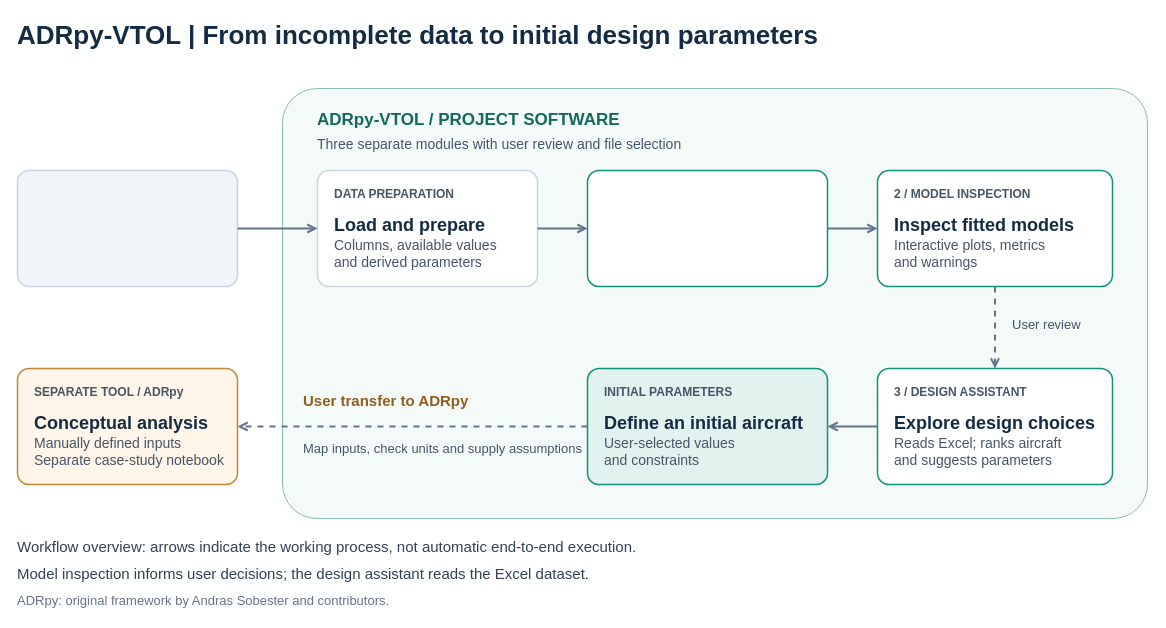
The diagram is 1166 pixels wide and 628 high, and some of its shapes have lost their labels. Each missing label, with the box of its shape:
1 / PREDICTOR Estimate missing values Similarity + regression Excel + model JSON: (586, 169, 828, 287)
INPUT UAV market data Incomplete specifications Excel workbook: (16, 169, 238, 287)
